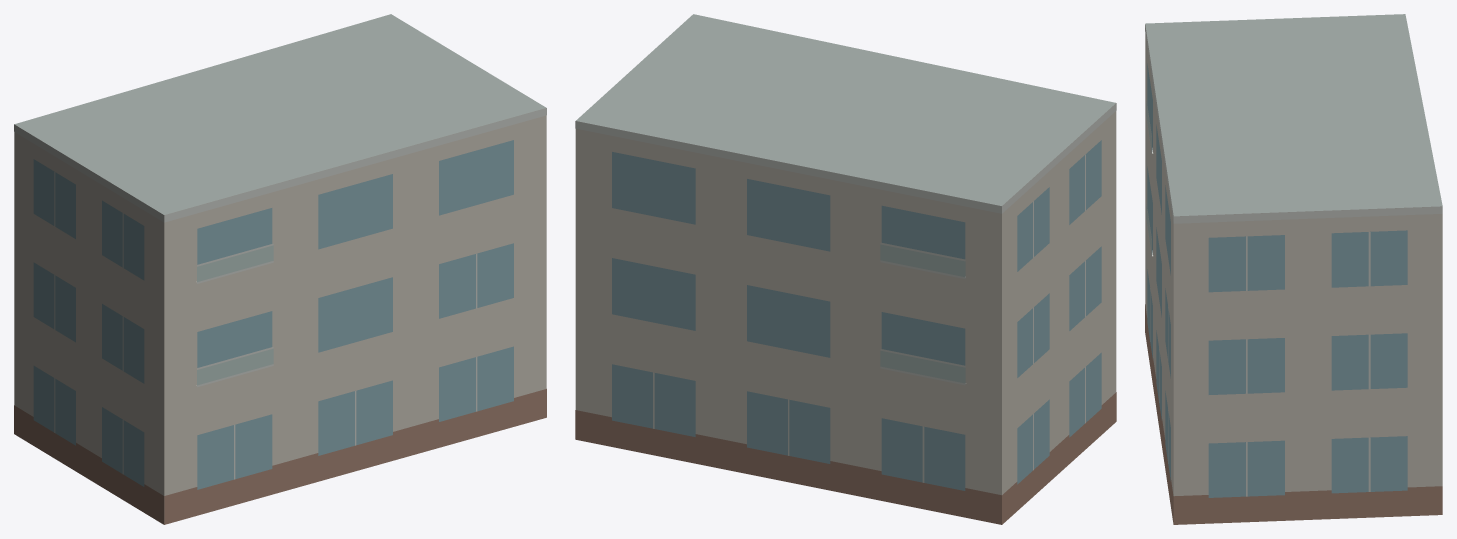
The model's file is survey-upis-32914279.glb.
The picture shows the model from 3 angles, left to right: view 1: azimuth 30°, elevation 25°; view 2: azimuth 150°, elevation 25°; view 3: azimuth 270°, elevation 25°; orthographic projection. The views are drawn at different scales.
Visible parts, largest first — view 1: survey-upis-32914279.tmp; view 2: survey-upis-32914279.tmp; view 3: survey-upis-32914279.tmp.
Boxes of the visible parts, left/top/right/bottom form: survey-upis-32914279.tmp: left=14, top=14, right=546, bottom=524; survey-upis-32914279.tmp: left=575, top=14, right=1116, bottom=524; survey-upis-32914279.tmp: left=1145, top=14, right=1442, bottom=524.
Size of the model in its own units: 14.22 by 10.1 by 8.84.
